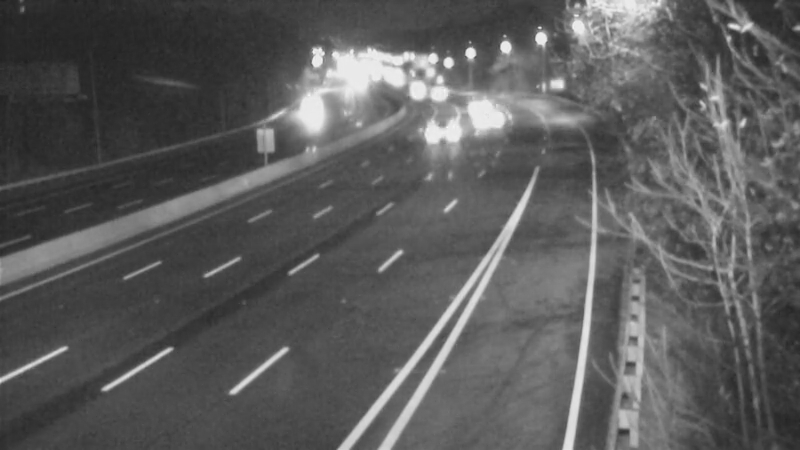vehicle: (414, 70, 464, 120), (453, 80, 503, 130), (464, 84, 514, 134), (427, 101, 477, 151), (277, 91, 327, 141)
